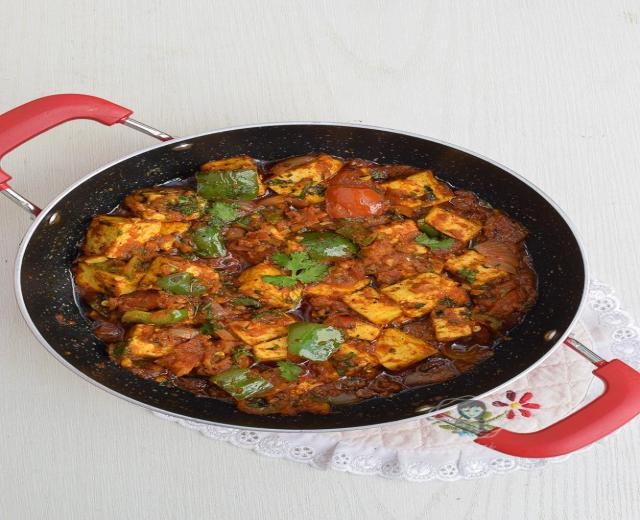kadai paneer: (11, 120, 590, 428), (0, 3, 625, 128), (1, 94, 177, 214), (256, 437, 292, 456)
